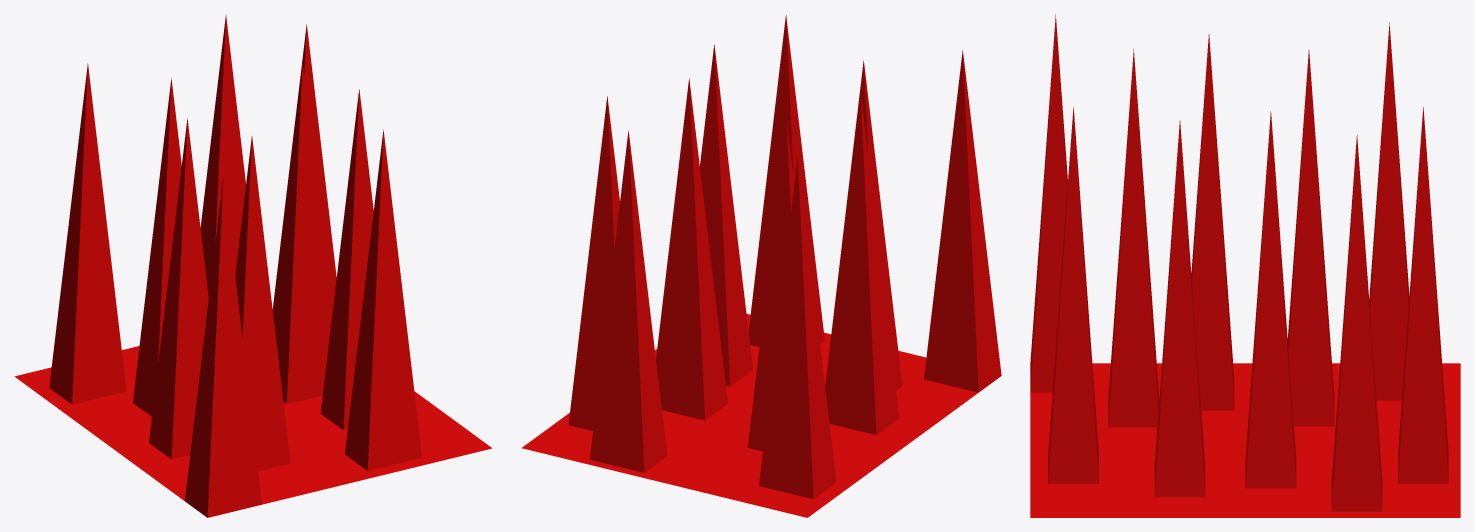
Rendered from spikeDeath.fbx.
3 views of the same model, side by side, from view 1: azimuth 30°, elevation 25°; view 2: azimuth 150°, elevation 25°; view 3: azimuth 270°, elevation 25° (orthographic). The views are drawn at different scales.
Parts seen in each view (by area): view 1: skpE45D_001; view 2: skpE45D_001; view 3: skpE45D_001.
Part boxes in pixels (x1=…): skpE45D_001: x1=14, y1=15, x2=492, y2=517; skpE45D_001: x1=521, y1=15, x2=1001, y2=517; skpE45D_001: x1=1030, y1=14, x2=1460, y2=517.
Bounding box in the file's own units: 0.9155 × 1 × 1.08.
